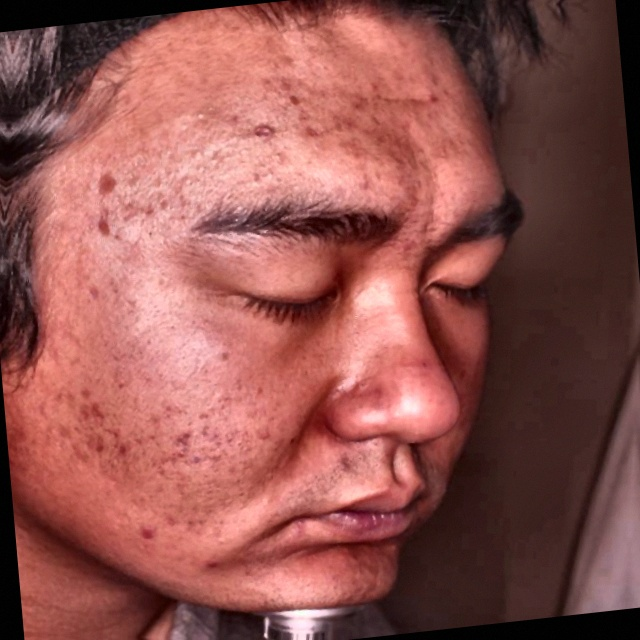comedone: (68, 389, 114, 442), (129, 515, 165, 552)
